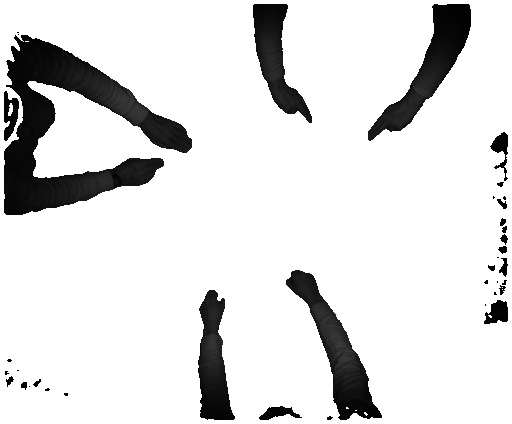fist: (280, 264, 324, 303)
hand: (145, 104, 191, 157), (368, 99, 421, 143), (116, 158, 167, 191), (272, 84, 311, 127), (192, 288, 231, 328)
